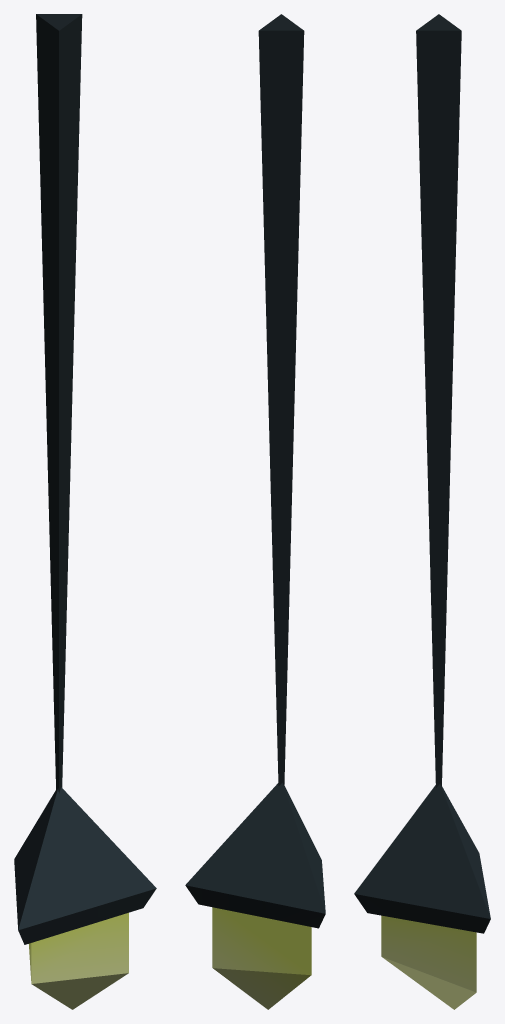
File: c_light_hangingbulb_aa.fbx
The picture shows the model from 3 angles, left to right: view 1: azimuth 30°, elevation 25°; view 2: azimuth 210°, elevation 25°; view 3: azimuth 330°, elevation 25°; orthographic projection.
Parts seen in each view (by area): view 1: c_light_hangingbulb_aa; view 2: c_light_hangingbulb_aa; view 3: c_light_hangingbulb_aa.
Part boxes in pixels (x1,y1,x2,y2): c_light_hangingbulb_aa: (14, 14, 156, 1009); c_light_hangingbulb_aa: (185, 14, 325, 1009); c_light_hangingbulb_aa: (354, 14, 490, 1009).
Size of the model in its own units: 0.2371 by 1.63 by 0.1939.
